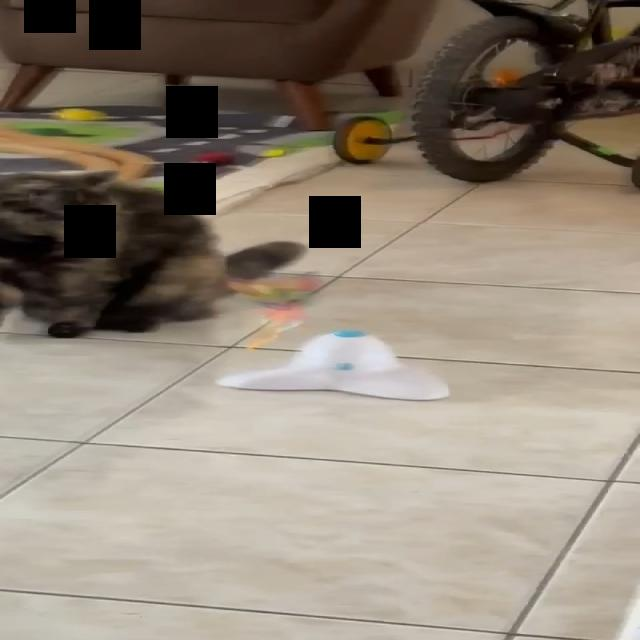authorized: (0, 168, 307, 338)
